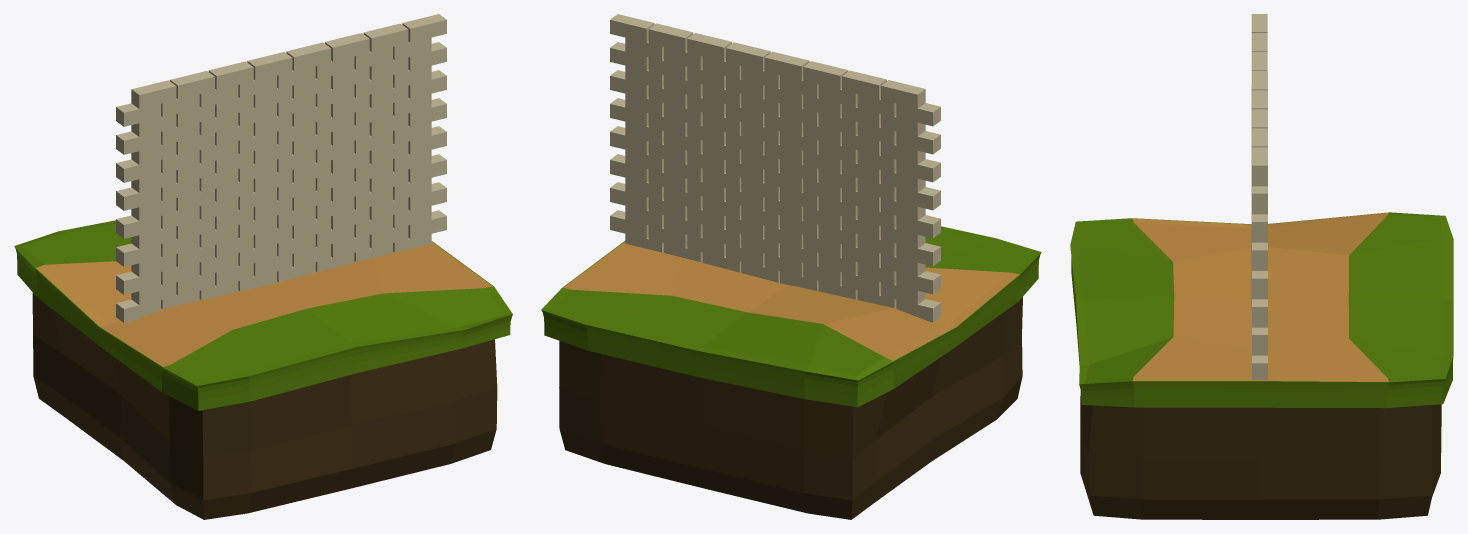
File: WallTile_LongBrick.fbx
The picture shows the model from 3 angles, left to right: view 1: azimuth 30°, elevation 25°; view 2: azimuth 150°, elevation 25°; view 3: azimuth 270°, elevation 25°; orthographic projection.
Visible parts, largest first — view 1: DefaultGreenTile.008, Cube; view 2: DefaultGreenTile.008, Cube; view 3: DefaultGreenTile.008, Cube.
Part boxes in pixels (bbox=[...]): DefaultGreenTile.008: bbox=[14, 220, 512, 519]; Cube: bbox=[116, 14, 446, 322]; DefaultGreenTile.008: bbox=[541, 226, 1041, 519]; Cube: bbox=[610, 14, 940, 322]; DefaultGreenTile.008: bbox=[1070, 212, 1453, 519]; Cube: bbox=[1251, 14, 1267, 379].
Size of the model in its own units: 20.28 by 19.42 by 20.95.
